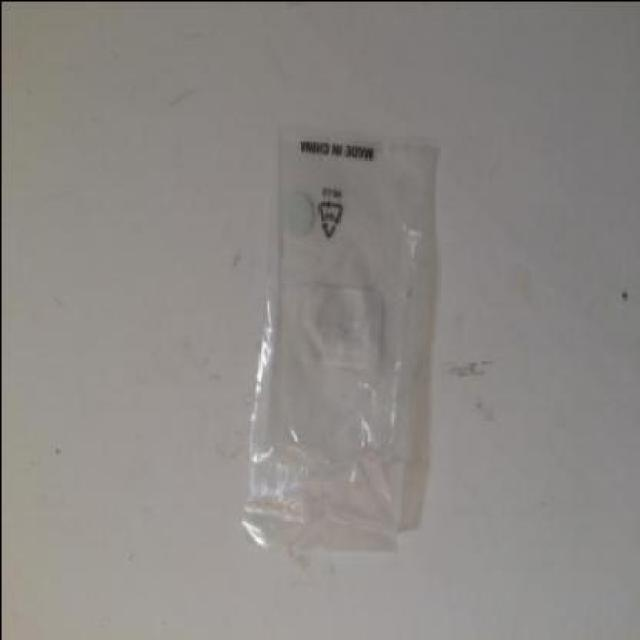PLASTIC: (242, 132, 436, 552)
